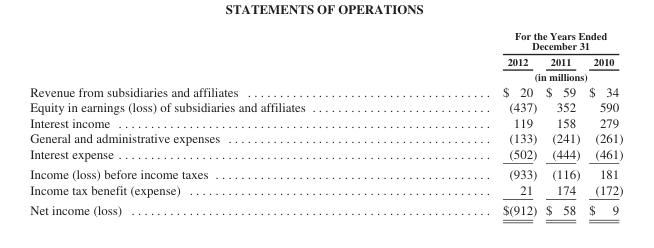table: (29, 29, 622, 217)
table column: (29, 29, 403, 217), (403, 29, 540, 217), (540, 29, 583, 217), (583, 29, 622, 217)
table column header: (29, 29, 622, 83)
table row: (29, 29, 622, 53), (29, 145, 622, 163), (29, 163, 622, 181), (29, 181, 622, 199), (29, 199, 622, 217), (29, 98, 622, 114), (29, 129, 622, 145), (29, 53, 622, 68), (29, 68, 622, 83), (29, 83, 622, 98), (29, 114, 622, 129)
table spanning cell: (403, 29, 622, 53), (403, 68, 622, 83)
